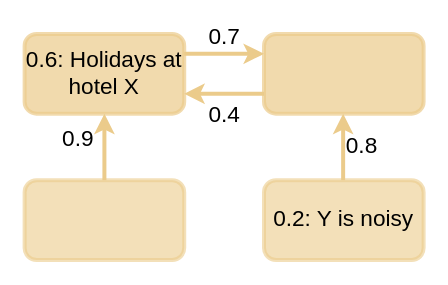
Some shapes in this 448 by 285 pixel diagram are drawn without their labels. Each missing label, with the centre of its shape:
"0.4: X is expensive" goes at point (104, 219).
"0.8: Holidays at hotel Y" goes at point (343, 73).
